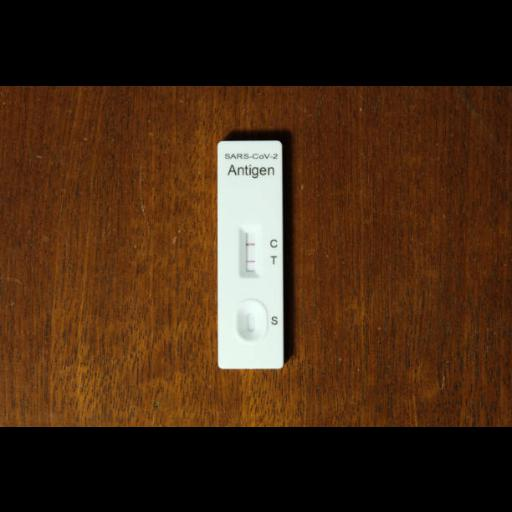Pos: (217, 138, 283, 368)
